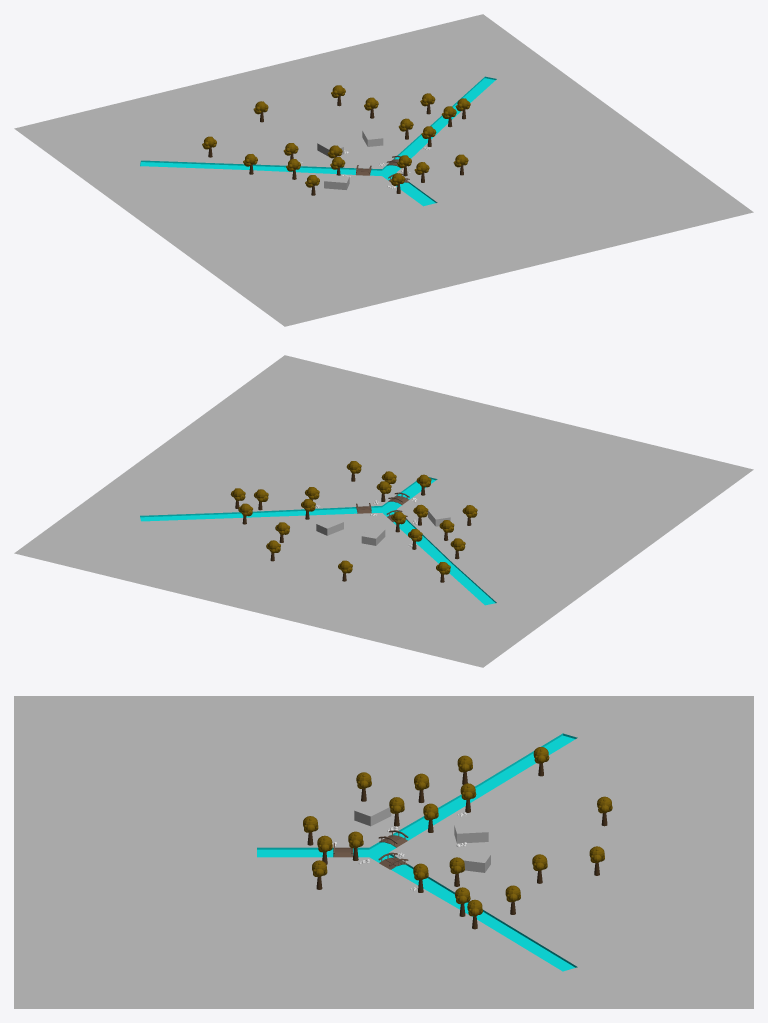
3 views of the same model, one above another, from view 1: azimuth 30°, elevation 25°; view 2: azimuth 150°, elevation 25°; view 3: azimuth 270°, elevation 25° (orthographic). The views are drawn at different scales.
Visible parts, largest first — view 1: pPlane5; view 2: pPlane5; view 3: pPlane5, pCube10, pCube11, pCube12.
Part boxes in pixels (bbox=[...]): pPlane5: bbox=[14, 14, 753, 326]; pPlane5: bbox=[14, 355, 753, 667]; pPlane5: bbox=[14, 696, 753, 1008]; pCube10: bbox=[354, 800, 391, 826]; pCube11: bbox=[454, 823, 488, 843]; pCube12: bbox=[456, 850, 490, 872].
Size of the model in its own units: 947 by 51.99 by 947.
